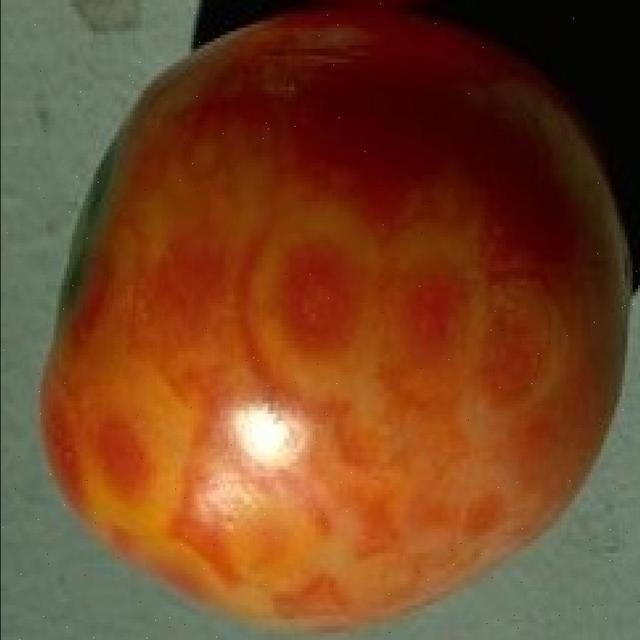Spotted wilt Virus Fruit: (24, 5, 419, 420)
